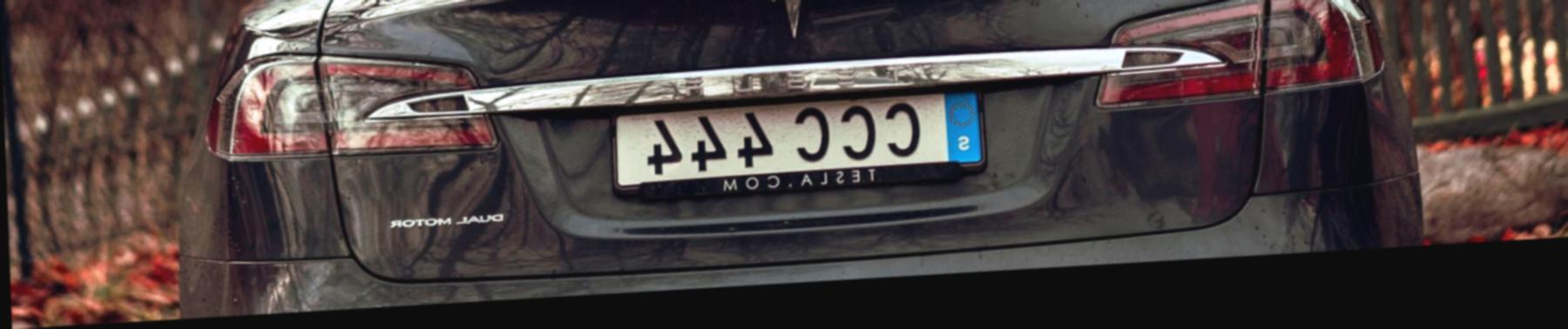License_Plate: (612, 75, 991, 206)
